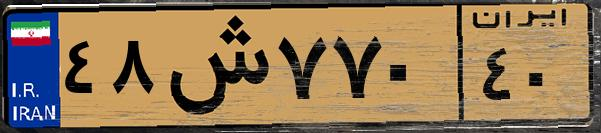0: (385, 28, 445, 110), (525, 38, 570, 115)
4: (57, 26, 110, 100), (475, 38, 525, 113)
7: (270, 28, 330, 110), (330, 28, 385, 110)
8: (110, 28, 158, 98)
ش: (158, 12, 270, 120)
